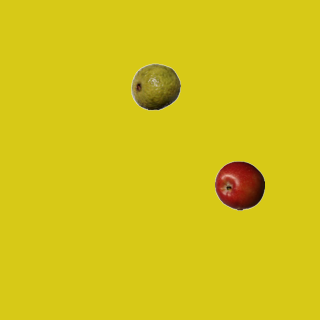Apple Braeburn: (214, 160, 264, 210)
Guava: (130, 61, 180, 111)
